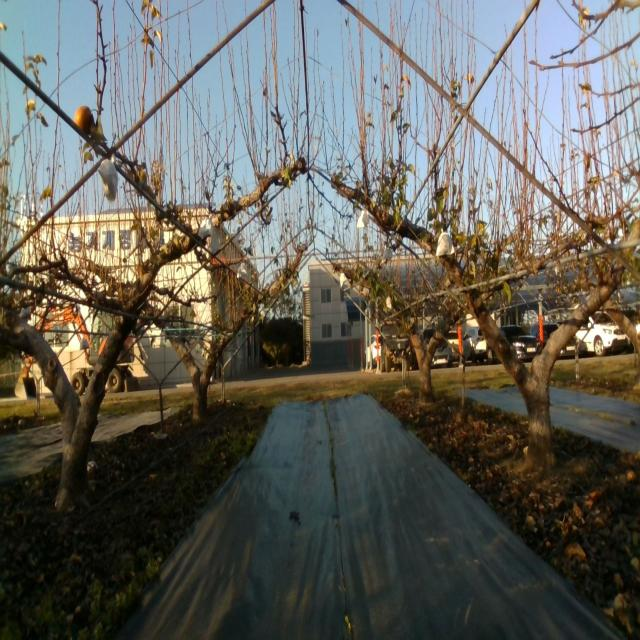pearbags: (97, 155, 119, 207), (436, 228, 455, 256), (198, 213, 214, 240), (356, 209, 370, 228), (381, 248, 394, 266)
